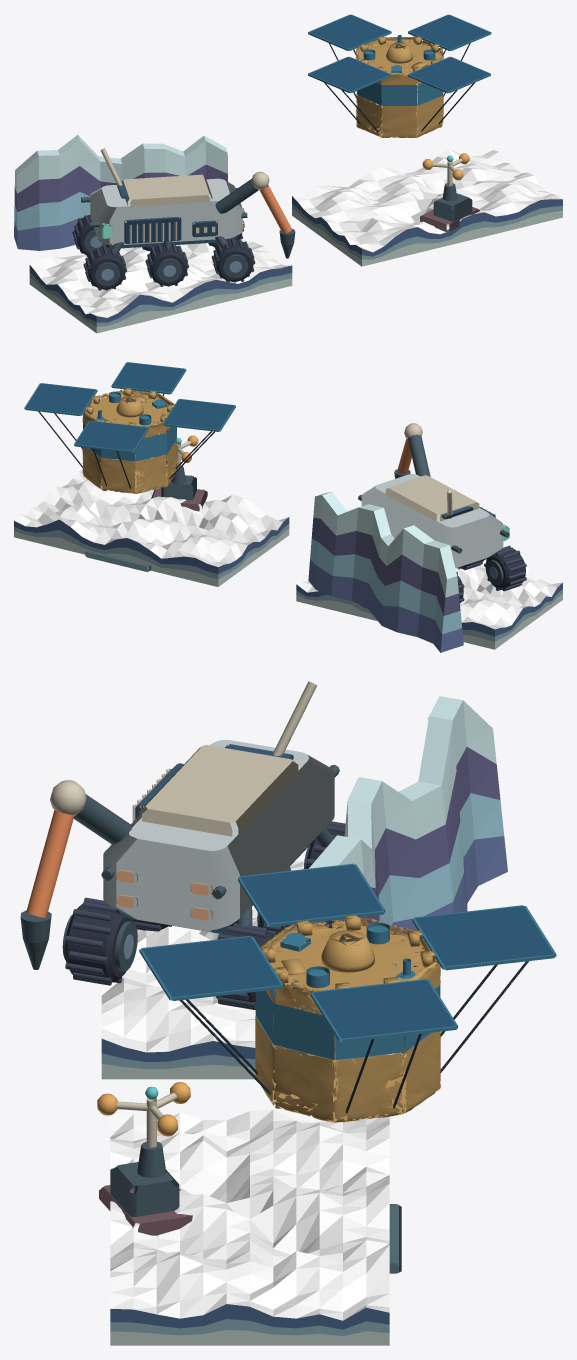
File: europa-crevasse.obj
The picture shows the model from 3 angles, top to bottom: view 1: azimuth 30°, elevation 25°; view 2: azimuth 150°, elevation 25°; view 3: azimuth 270°, elevation 25°; orthographic projection. The views are drawn at different scales.
Parts seen in each view (by area): view 1: europa-crevasse; view 2: europa-crevasse; view 3: europa-crevasse.
Boxes of the visible parts, x1=… form: europa-crevasse: x1=14, y1=14, x2=562, y2=333; europa-crevasse: x1=14, y1=362, x2=562, y2=652; europa-crevasse: x1=20, y1=681, x2=556, y2=1345.
Size of the model in its own units: 1.68 by 0.5229 by 0.8306.
